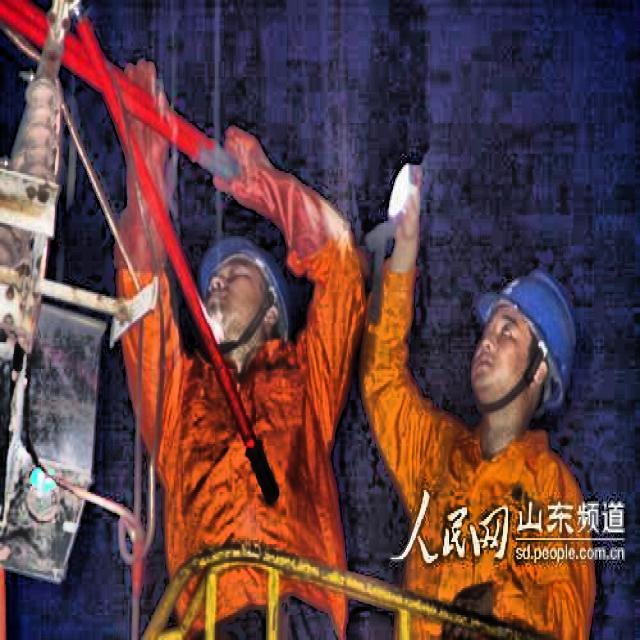helmet: (466, 256, 582, 444), (184, 230, 284, 374)
